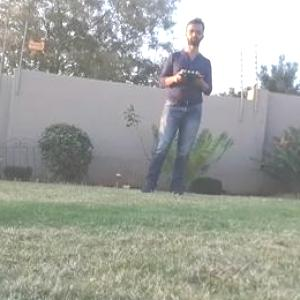follow: (135, 7, 215, 198)
